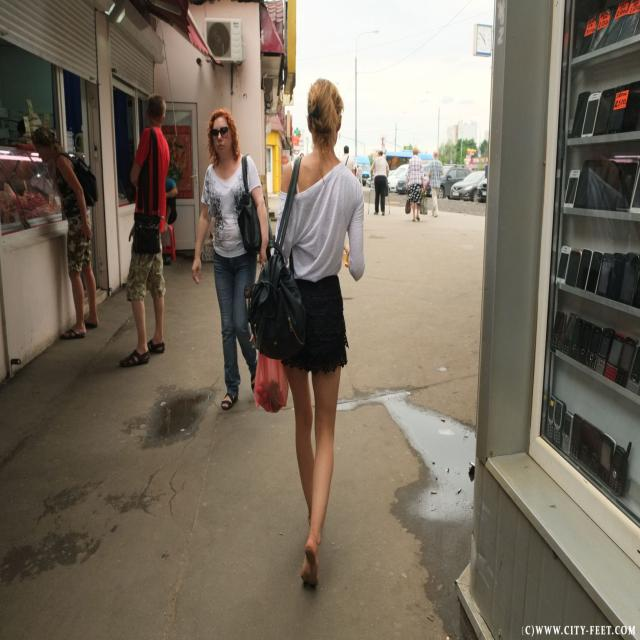Barefoots: (301, 539, 318, 585)
